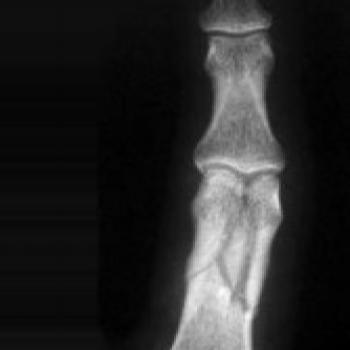Fracture: (148, 240, 305, 314)
